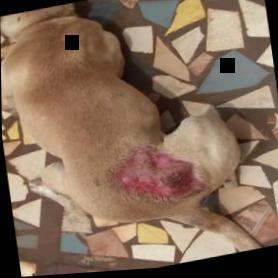skin_lesions: (111, 141, 197, 214)
